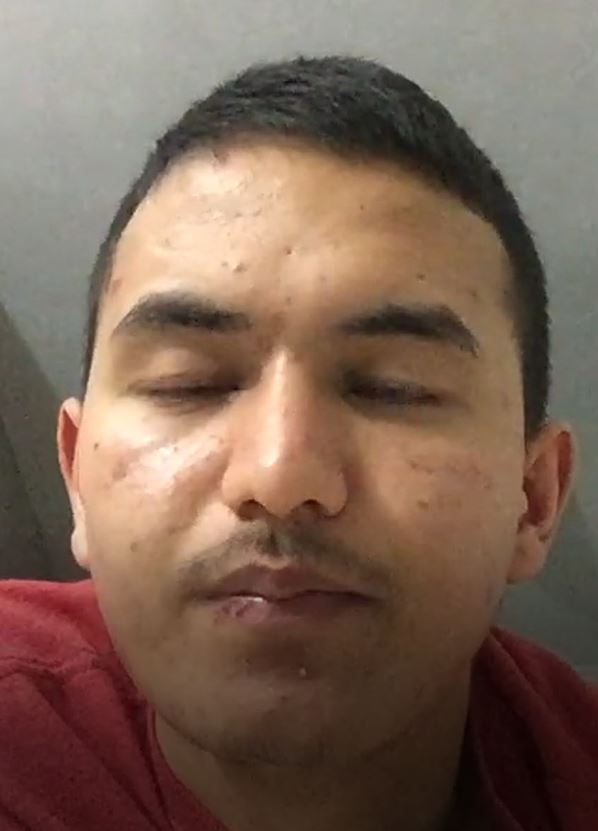Sleeping: (101, 325, 489, 431)
